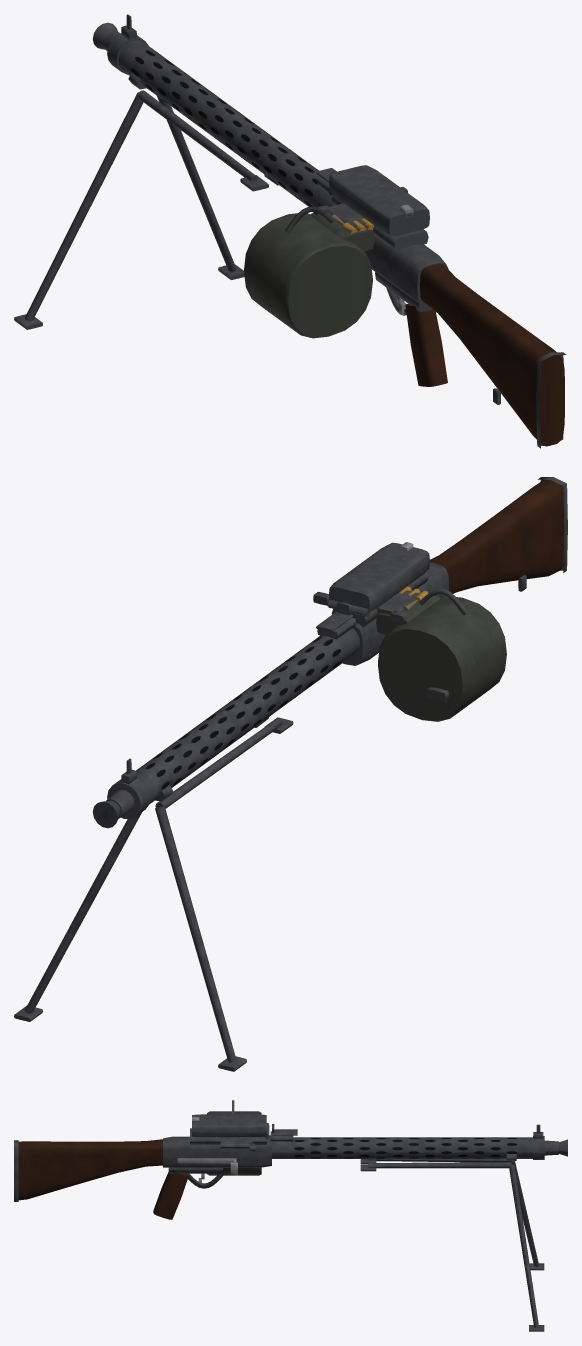
The picture shows the model from 3 angles, top to bottom: view 1: azimuth 30°, elevation 25°; view 2: azimuth 150°, elevation 25°; view 3: azimuth 270°, elevation 25°; orthographic projection. The views are drawn at different scales.
Visible parts, largest first — view 1: mg34_body, mg34_drum, mg34_bipod_open, mg34_feed_cover, mg34_bipod_folded; view 2: mg34_body, mg34_drum, mg34_bipod_open, mg34_feed_cover, mg34_bipod_folded; view 3: mg34_body, mg34_feed_cover, mg34_bipod_open, mg34_bipod_folded, mg34_drum.
Boxes of the visible parts, x1,y1,x2,y2 form: mg34_body: (93, 14, 566, 448); mg34_drum: (244, 206, 374, 338); mg34_bipod_open: (14, 92, 244, 329); mg34_feed_cover: (328, 165, 429, 235); mg34_bipod_folded: (138, 90, 278, 191); mg34_body: (93, 477, 567, 828); mg34_drum: (376, 588, 506, 721); mg34_bipod_open: (14, 806, 246, 1071); mg34_feed_cover: (328, 542, 429, 616); mg34_bipod_folded: (155, 717, 293, 808); mg34_body: (14, 1124, 567, 1219); mg34_feed_cover: (192, 1114, 269, 1138); mg34_bipod_open: (509, 1161, 544, 1331); mg34_bipod_folded: (360, 1159, 511, 1171); mg34_drum: (207, 1100, 261, 1175).
Size of the model in its own units: 0.348 by 0.44 by 1.22.
Materials: 1 (1 with a texture image).
